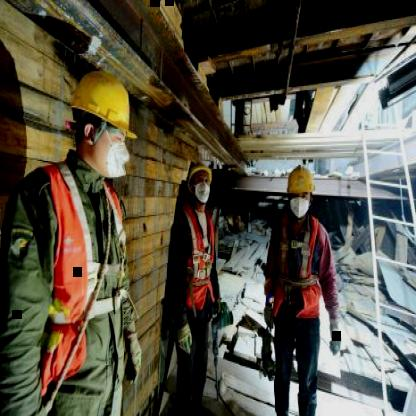helmet: (64, 71, 138, 138), (283, 162, 320, 200), (187, 154, 216, 191)
